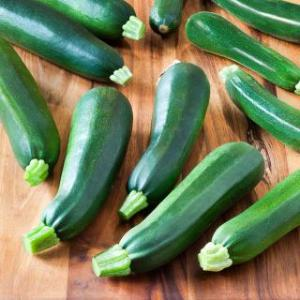zucchini: (96, 138, 266, 278), (30, 79, 134, 261), (176, 5, 300, 103), (0, 0, 134, 90), (200, 167, 300, 273), (131, 61, 220, 180), (1, 35, 64, 189), (212, 57, 300, 159)
